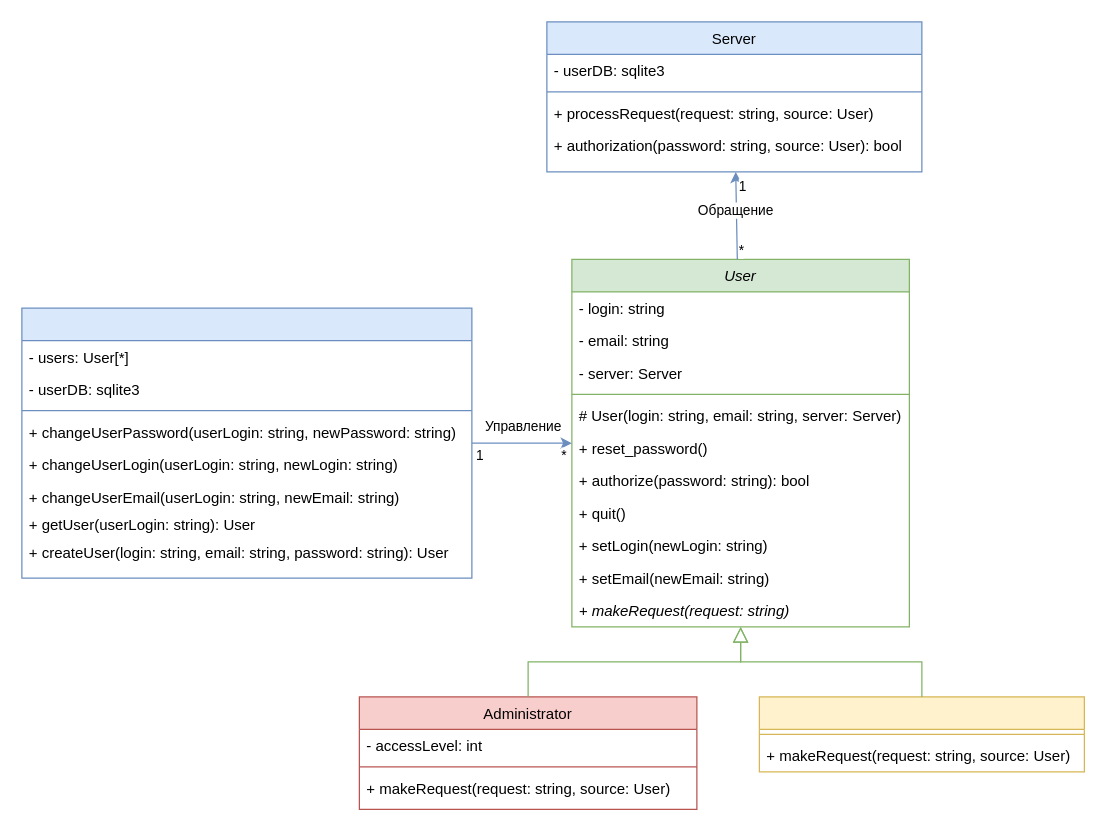
Some shapes in this 1106 by 831 pixel diagram are drawn without their labels. The box of each missing label's shape, as (x1, y1, x2, y2) in pixels:
Client: (758, 696, 1084, 772)
UserManager: (21, 307, 472, 578)
